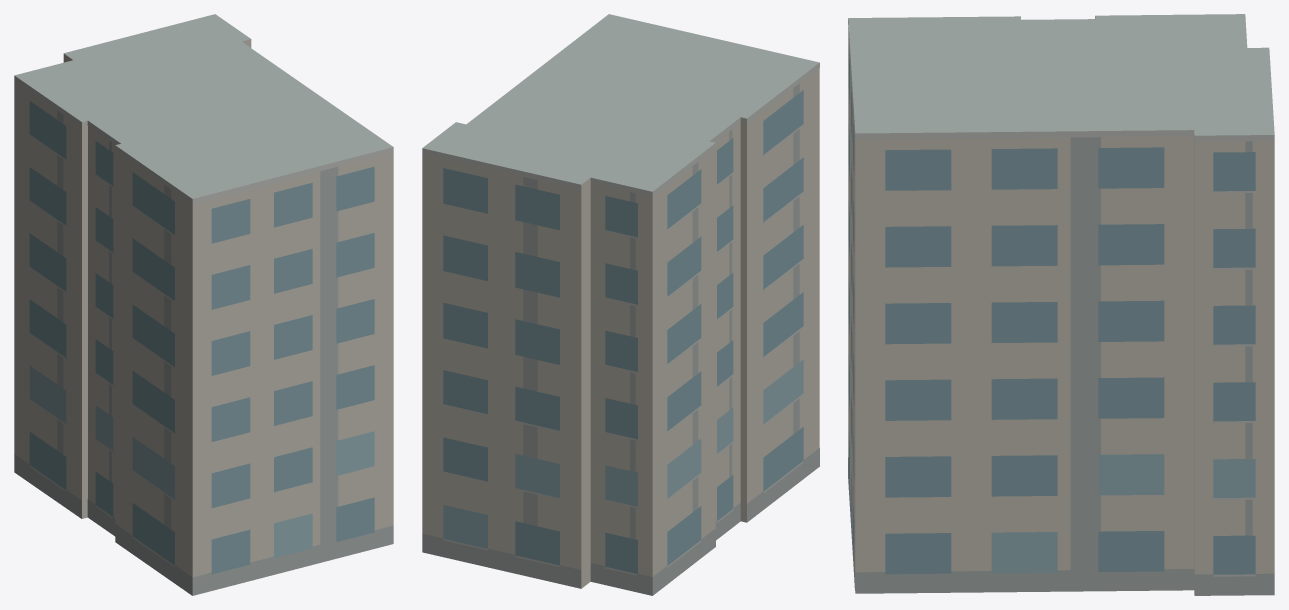
Rendered from survey-upis-32948789.glb.
3 renders of one model, left to right at view 1: azimuth 30°, elevation 25°; view 2: azimuth 150°, elevation 25°; view 3: azimuth 270°, elevation 25°, orthographic. The views are drawn at different scales.
Visible parts, largest first — view 1: survey-upis-32948789.tmp; view 2: survey-upis-32948789.tmp; view 3: survey-upis-32948789.tmp.
Part boxes in pixels (left/top/right/bottom): survey-upis-32948789.tmp: left=14, top=14, right=393, bottom=595; survey-upis-32948789.tmp: left=422, top=14, right=819, bottom=595; survey-upis-32948789.tmp: left=848, top=14, right=1274, bottom=595.
Bounding box in the file's own units: 10.39 × 18.3 × 15.38.
